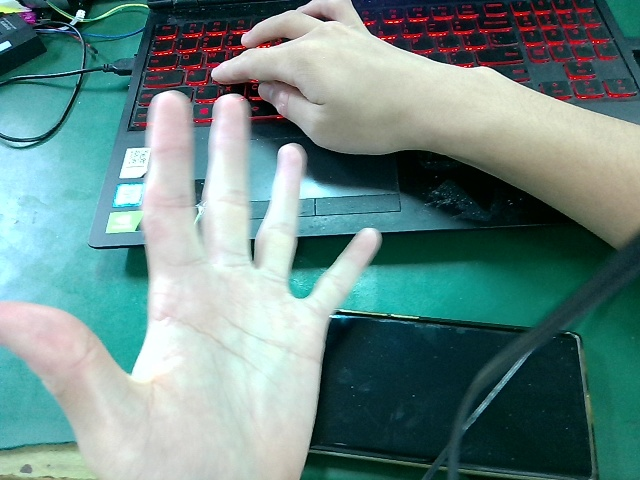paper: (1, 85, 389, 480)
